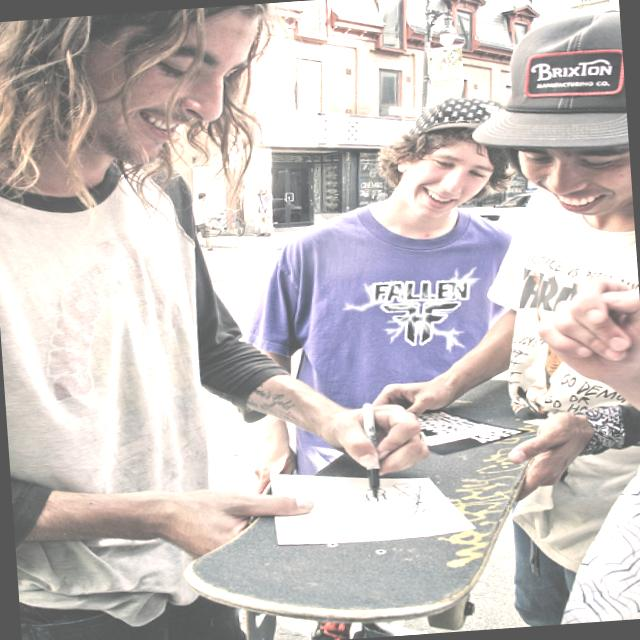Vehicle: (470, 192, 538, 235)
